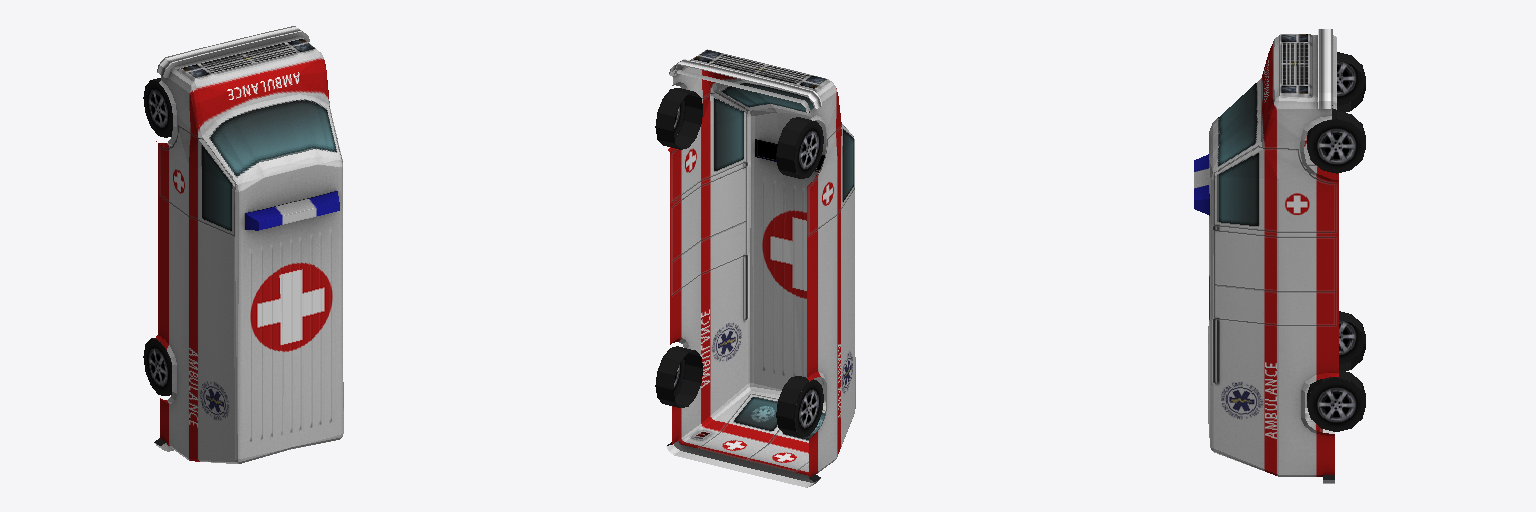
3 views of the same model, side by side, from view 1: azimuth 30°, elevation 25°; view 2: azimuth 150°, elevation 25°; view 3: azimuth 270°, elevation 25° (orthographic).
Visible parts, largest first — view 1: Ambulace_Van; view 2: Ambulace_Van; view 3: Ambulace_Van.
Part boxes in pixels (left/top/right/bottom): Ambulace_Van: left=143, top=26, right=343, bottom=463; Ambulace_Van: left=655, top=49, right=855, bottom=487; Ambulace_Van: left=1194, top=29, right=1365, bottom=483.
Bounding box in the file's own units: 242 × 608 × 244.
1 materials, 1 textured.